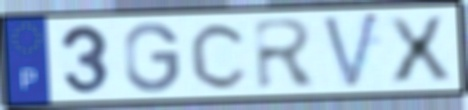3: (55, 22, 116, 97)
C: (187, 20, 251, 92)
G: (122, 20, 183, 95)
R: (250, 16, 322, 92)
V: (319, 9, 383, 93)
X: (382, 13, 456, 86)
